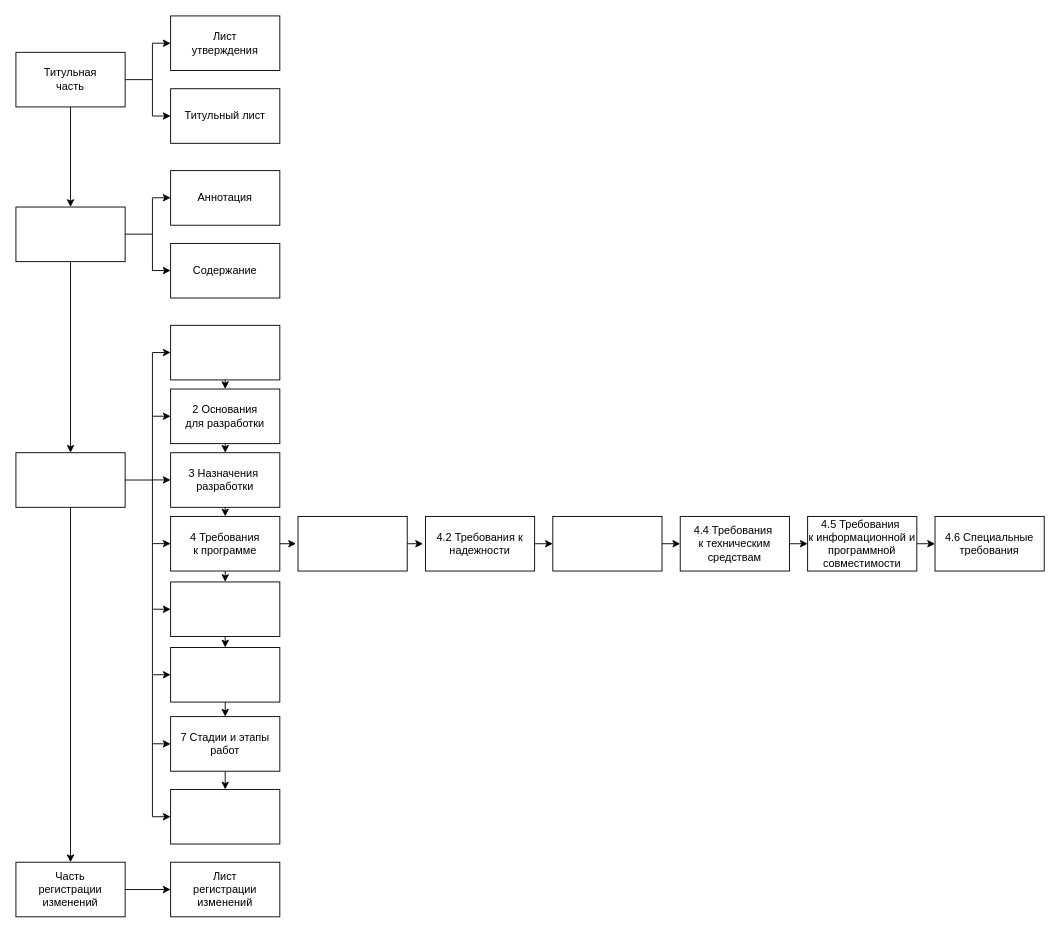
Image size: 1060x933. Some labels were removed from this diagram. The shapes that lost their labels are listed below. From the top down, each one's centre as x and y in pixels, then its label:
At point (70, 234): "Информацио нная часть".
At point (225, 352): "1 Введение".
At point (70, 479): "Основная часть".
At point (352, 543): "4.1 Требования к функциональным характеристикам".
At point (607, 543): "4.3 Условия эксплуатации".
At point (225, 609): "5 Требования к программной документации".
At point (225, 674): "6 Технико-экономические показатели".
At point (225, 816): "8 Порядок контроля и приемки".
